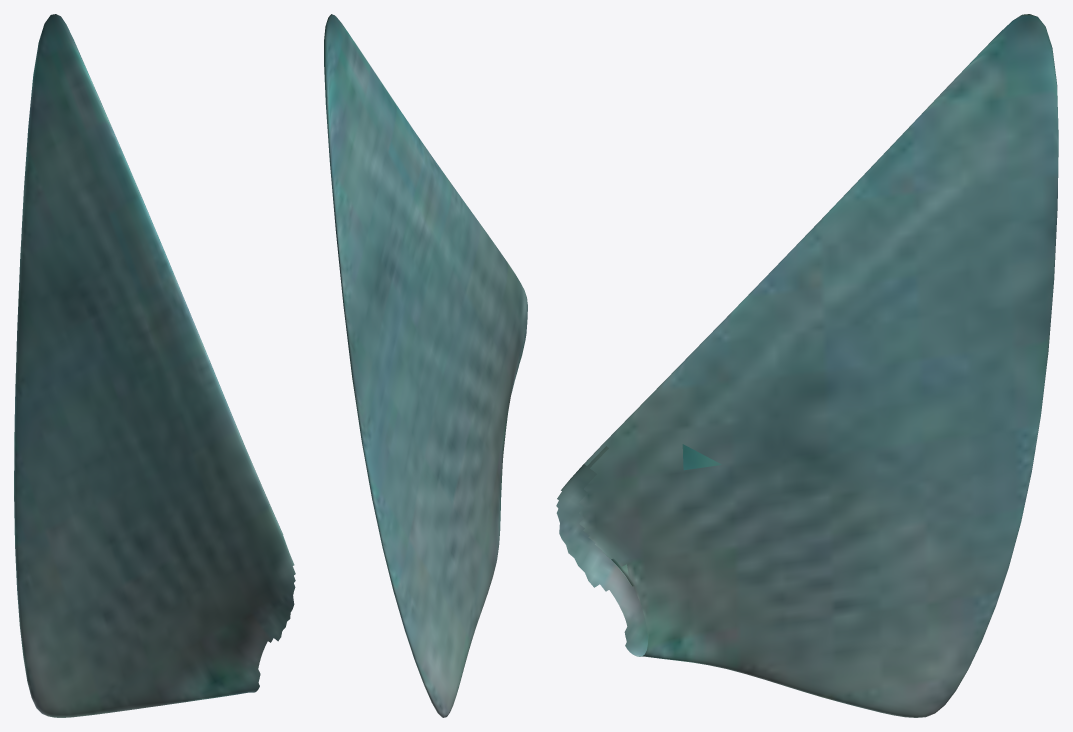
File: AletaDerPezAzul.obj
3 views of the same model, side by side, from view 1: azimuth 30°, elevation 25°; view 2: azimuth 150°, elevation 25°; view 3: azimuth 270°, elevation 25° (orthographic). The views are drawn at different scales.
Parts seen in each view (by area): view 1: AletaDer; view 2: AletaDer; view 3: AletaDer.
Boxes of the visible parts, x1=… form: AletaDer: x1=14, y1=14, x2=295, y2=717; AletaDer: x1=324, y1=14, x2=527, y2=717; AletaDer: x1=556, y1=14, x2=1058, y2=717.
Bounding box in the file's own units: 0.1571 × 1.05 × 0.6475.
Materials: 1 (1 with a texture image).
